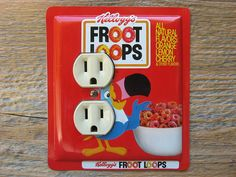outlet: (82, 59, 106, 86), (82, 107, 105, 134)
